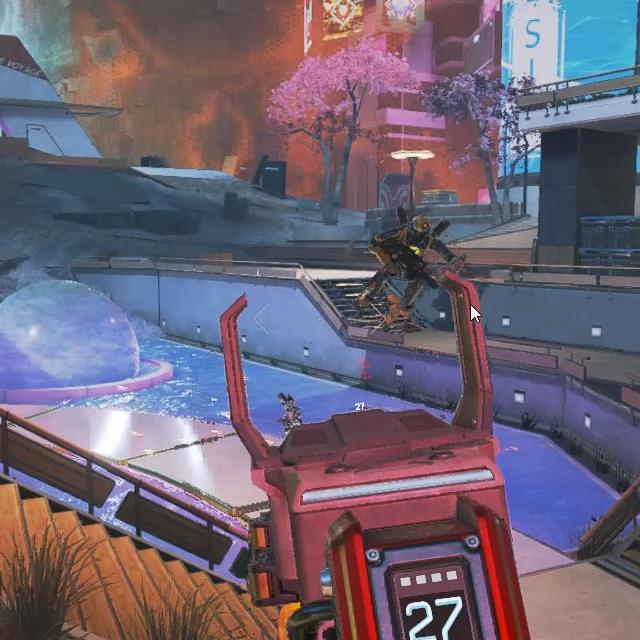avatar: (359, 211, 466, 332)
